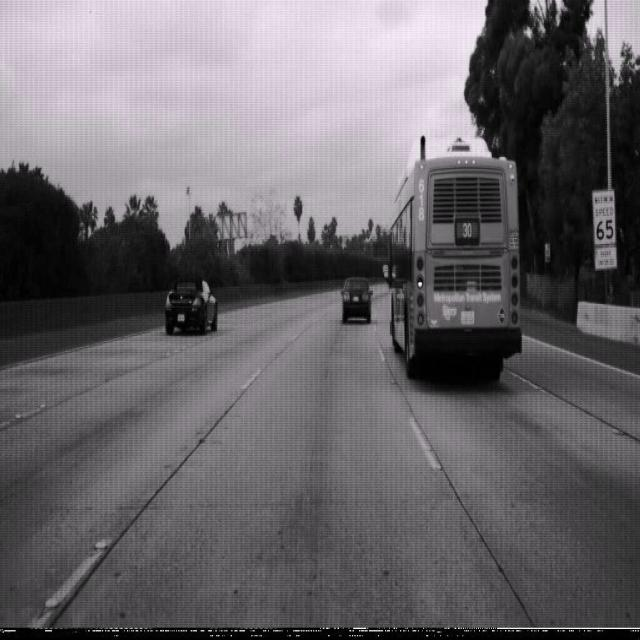speedLimit65: (592, 188, 617, 246)
